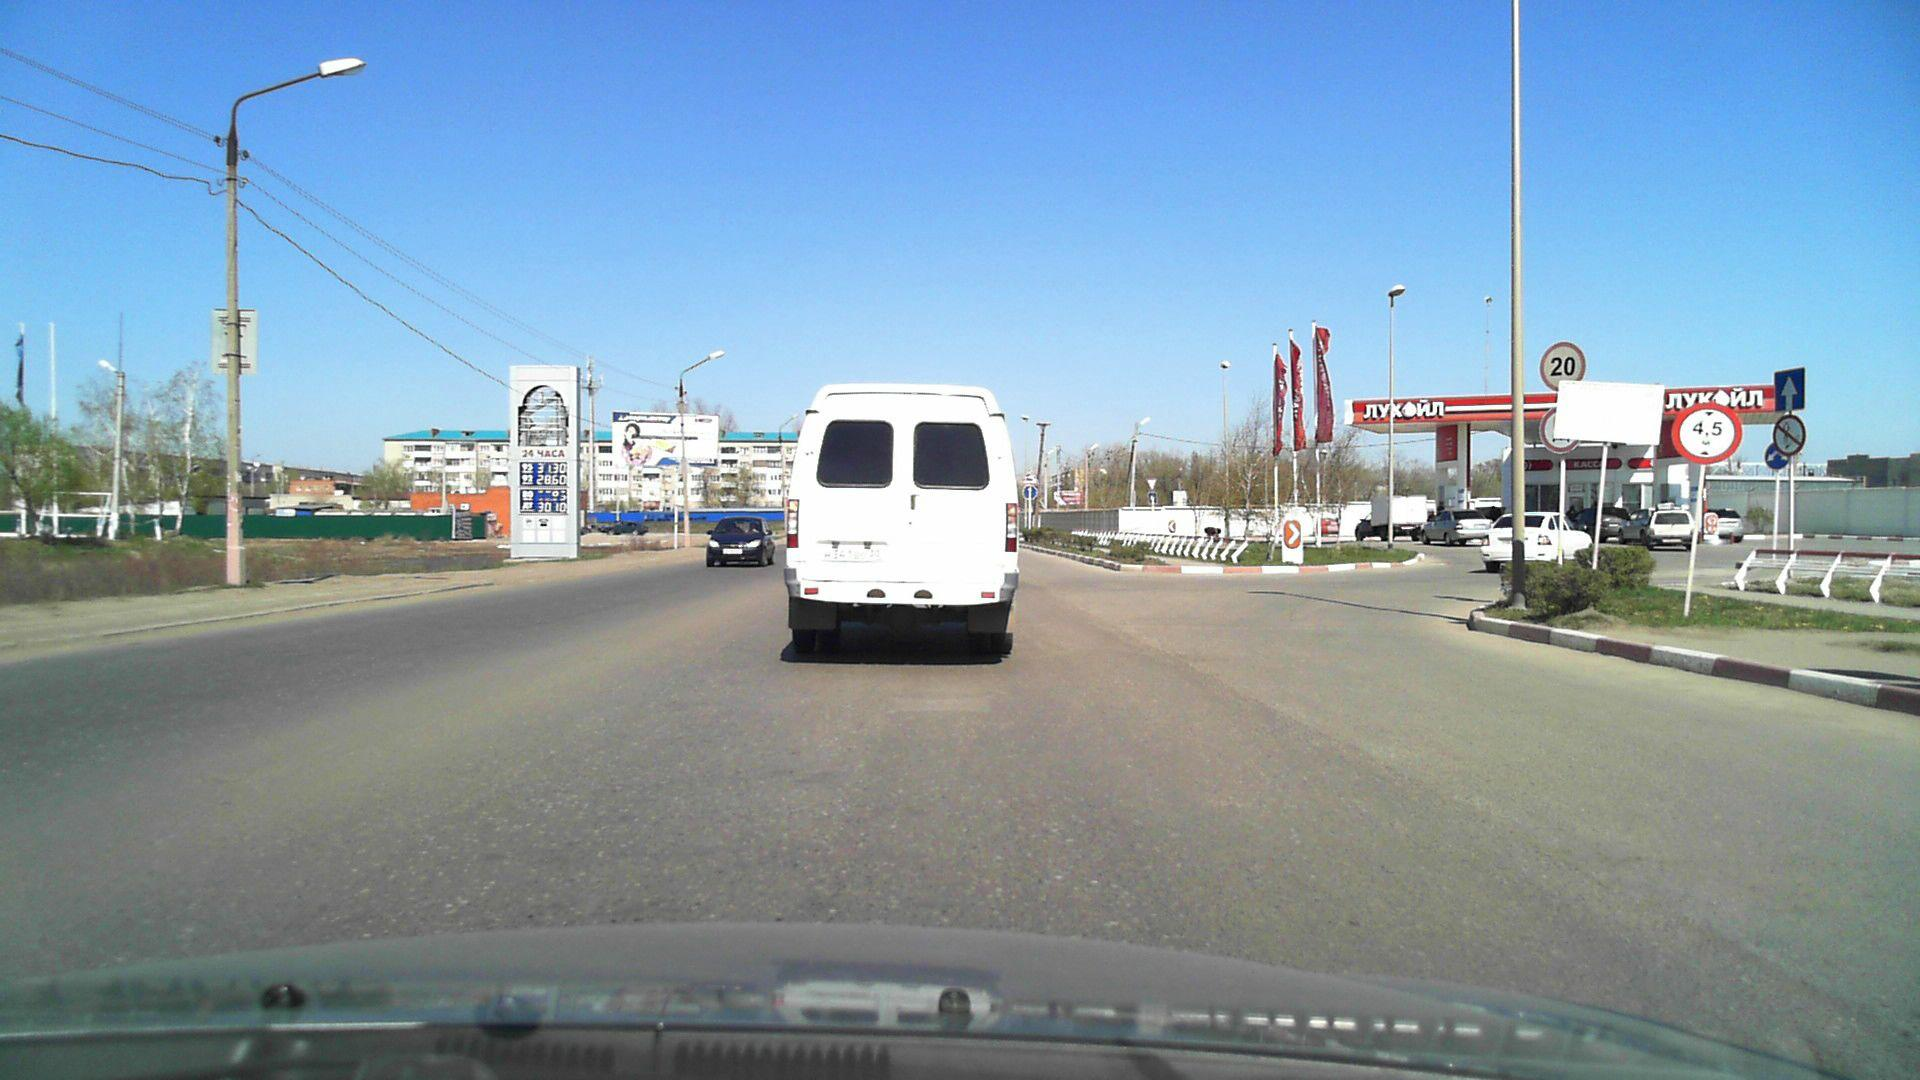2_4: (1146, 477, 1158, 489)
3_13: (1671, 401, 1742, 465)
3_24: (1538, 339, 1586, 392)
3_32: (1538, 405, 1580, 454)
4_1_1: (1025, 485, 1039, 500)
4_2_3: (1764, 442, 1789, 468)
5_5: (1772, 368, 1808, 413)
5_6: (1149, 492, 1158, 505)
